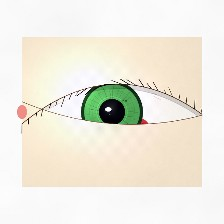hemorrhage_spot: (64, 86, 162, 166)
